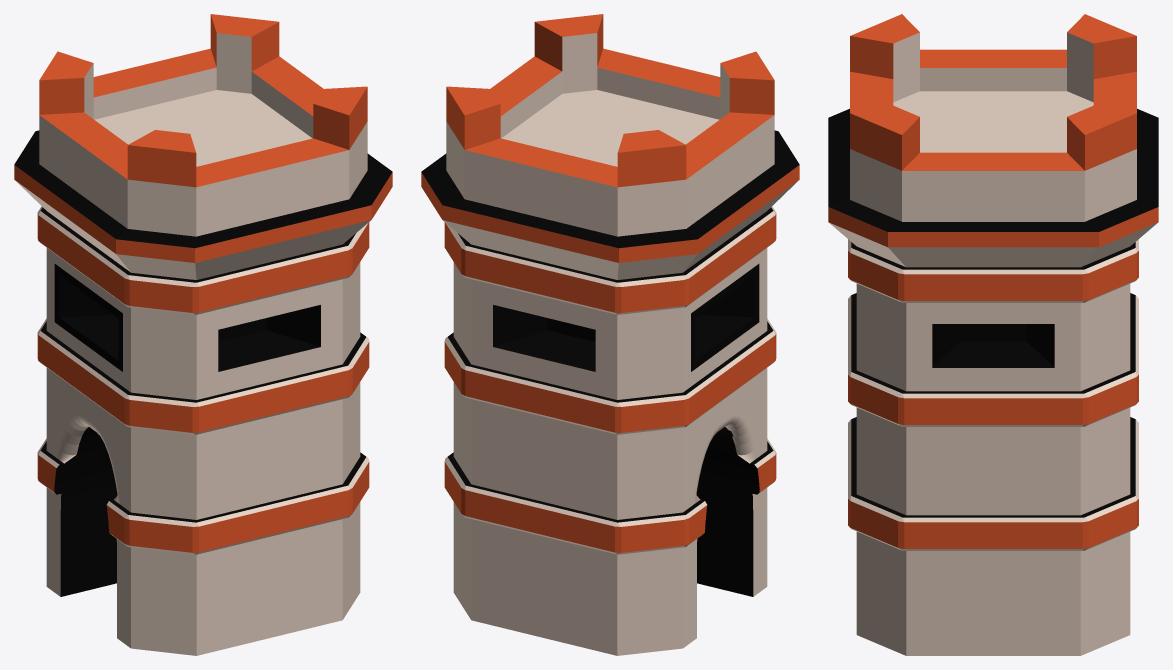
File: lal.fbx
The picture shows the model from 3 angles, left to right: view 1: azimuth 30°, elevation 25°; view 2: azimuth 150°, elevation 25°; view 3: azimuth 270°, elevation 25°; orthographic projection. The views are drawn at different scales.
Parts seen in each view (by area): view 1: Cube.002; view 2: Cube.002; view 3: Cube.002.
Part boxes in pixels (x1,y1,x2,y2): Cube.002: [14, 14, 392, 655]; Cube.002: [421, 14, 799, 655]; Cube.002: [828, 14, 1158, 655].
Bounding box in the file's own units: 242 × 422 × 242.
